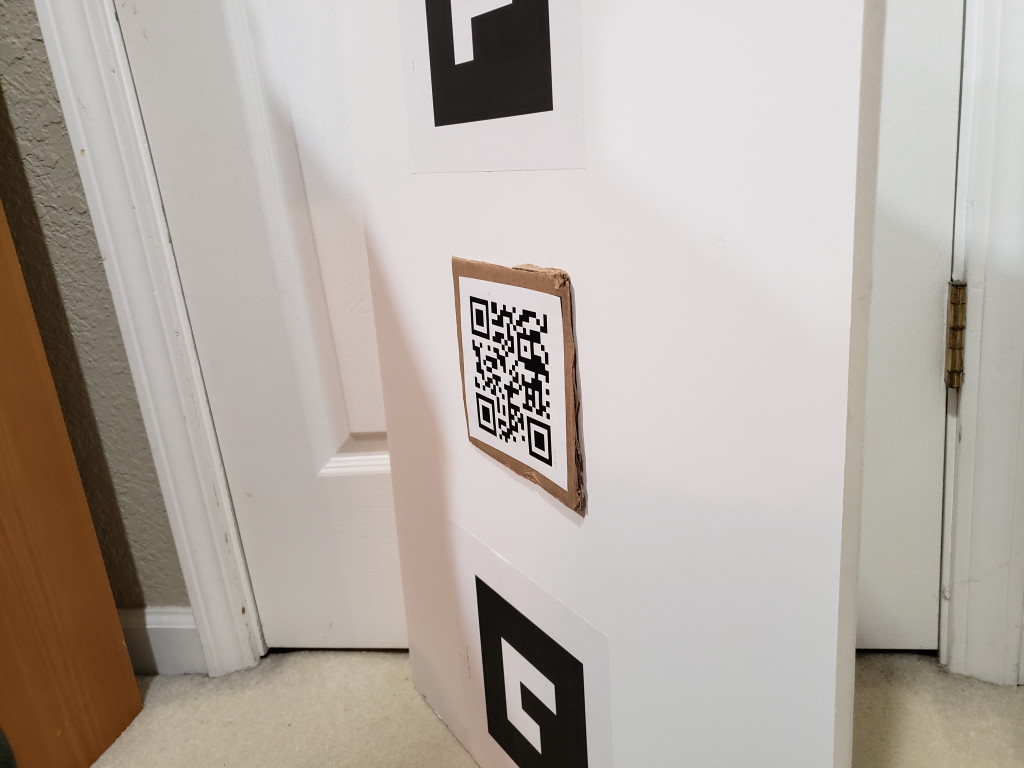QR_CODE: (460, 284, 569, 477)
